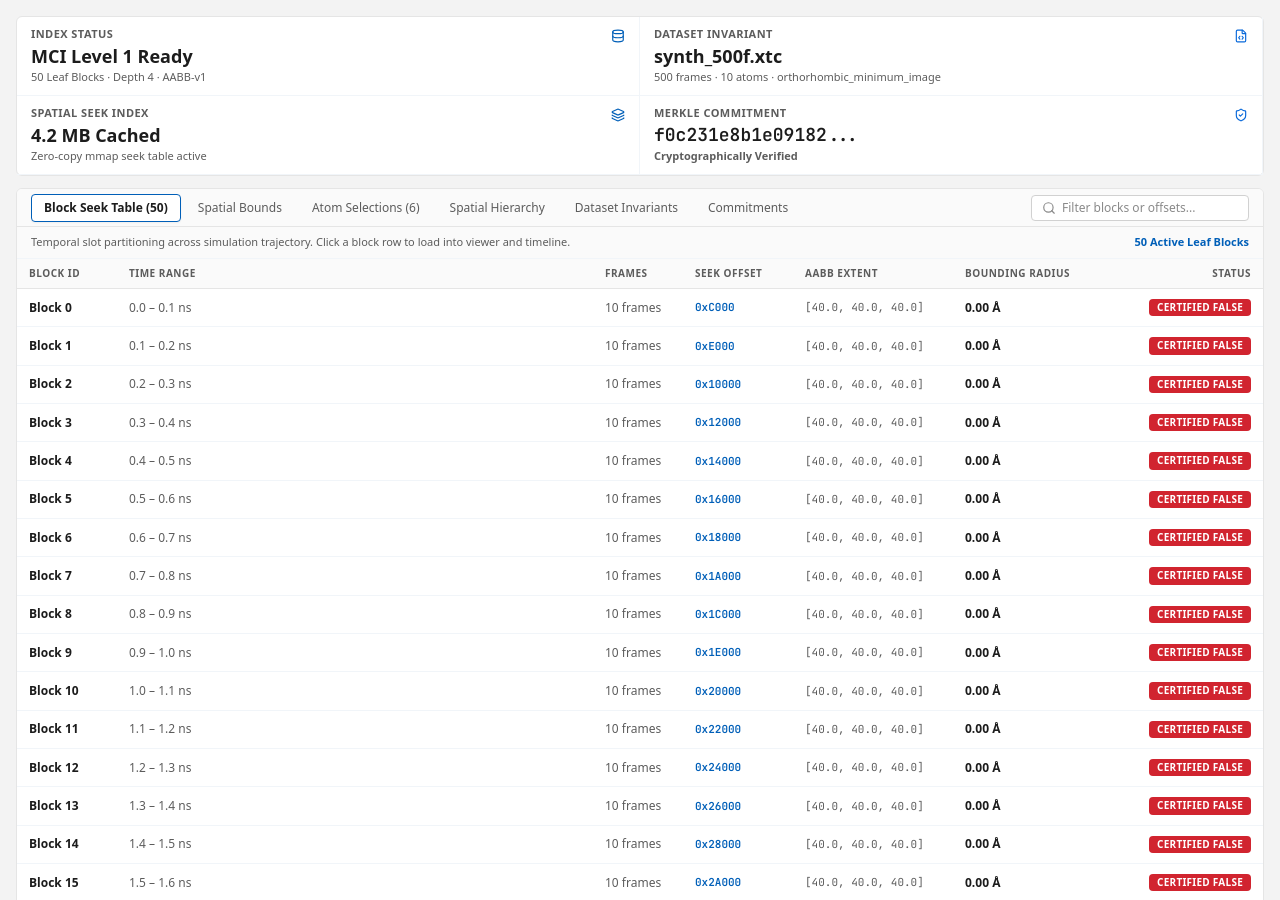
Test: Navigation, Routing, View Registration & Documentation Forensic Suite › 4. IndexCatalogView Functional Tests › renders block seek table, filters blocks, toggles selections, and copies commitment hash
Type "41" into the field with test id "index-search-input" at (1150, 208), box [1062,200,1238,216]
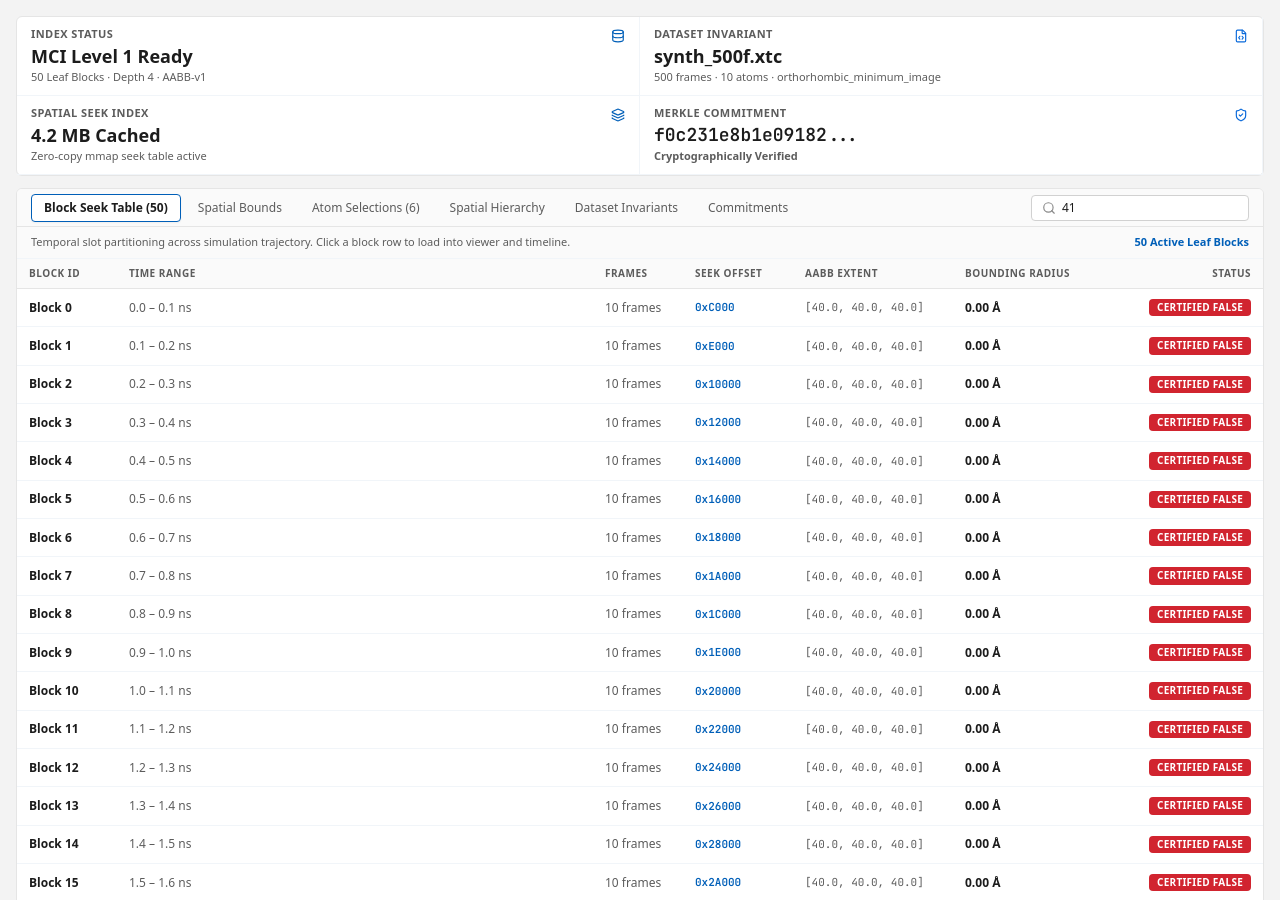
Click the tab with id "mocs-tab-selections" at (366, 208), box [299,194,432,222]
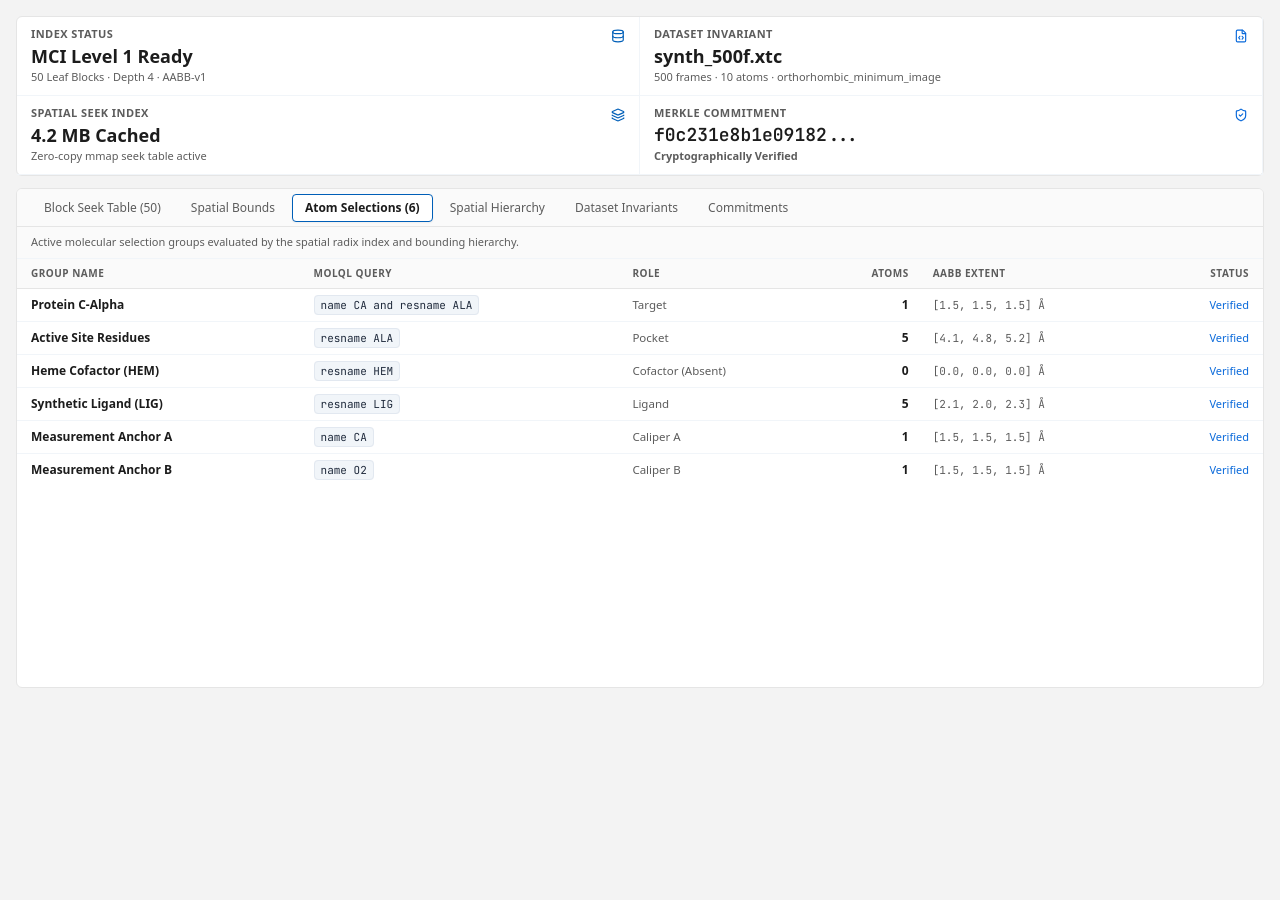
Expected: the element with test id "selections-panel" is shown, [17,227,1263,480]
Expected: the text "Protein C-Alpha" is shown, [31,296,124,313]
Expected: the text "Heme Cofactor (HEM)" is shown, [31,362,159,379]
Click the tab with id "mocs-tab-commitments" at (748, 208), box [695,194,801,222]
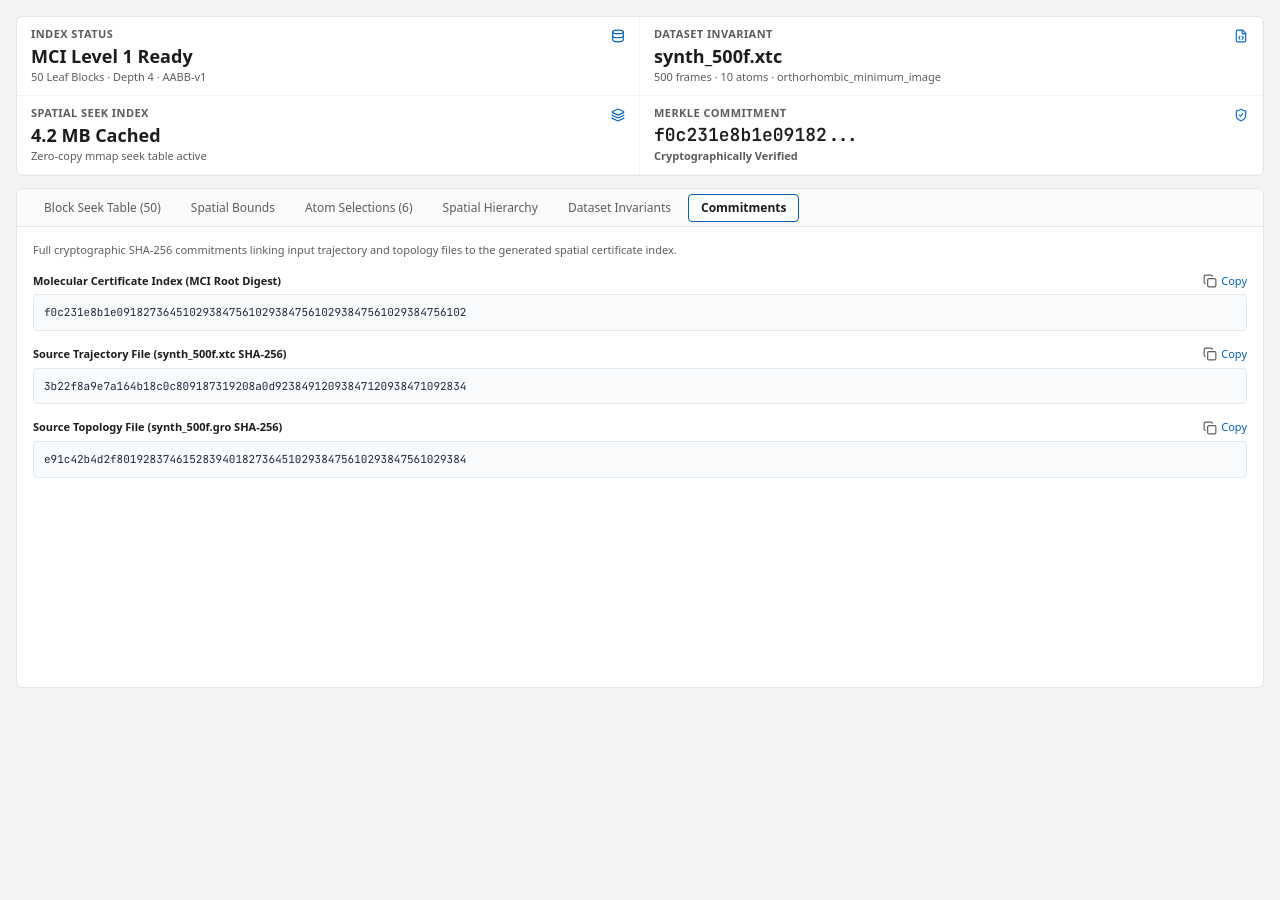
Expected: the element with test id "commitments-panel" is shown, [33,242,1247,478]
Expected: the text "Molecular Certificate Index (MCI Root Digest)" is shown, [33,274,281,288]
